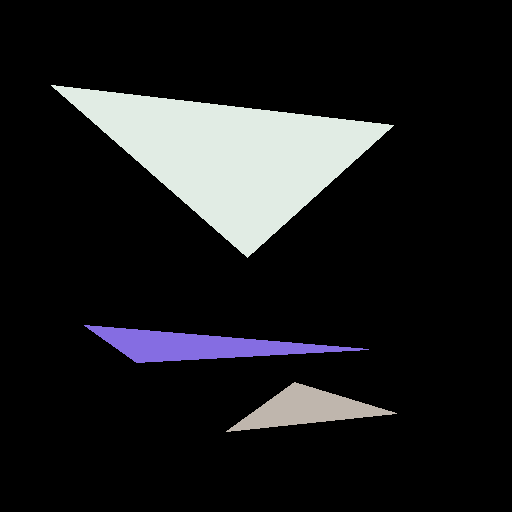triangle: (51, 85, 393, 257), (84, 325, 368, 362), (226, 382, 396, 431)
